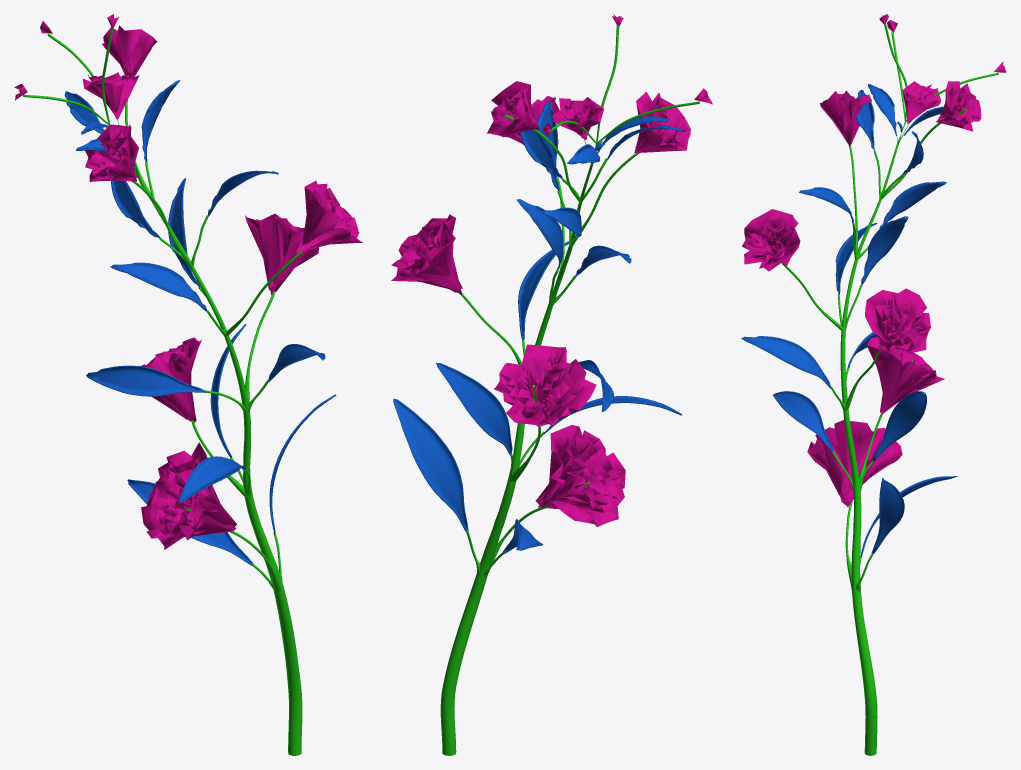
File: flowers.fbx
3 renders of one model, left to right at view 1: azimuth 30°, elevation 25°; view 2: azimuth 150°, elevation 25°; view 3: azimuth 270°, elevation 25°, orthographic. The views are drawn at different scales.
Visible parts, largest first — view 1: flowers, leaves, stalk; view 2: flowers, leaves, stalk; view 3: flowers, leaves, stalk.
Part boxes in pixels (x1,y1,x2,y2): flowers: [14, 14, 362, 549]; leaves: [64, 80, 336, 565]; stalk: [23, 27, 303, 755]; flowers: [391, 14, 712, 527]; leaves: [393, 101, 682, 553]; stalk: [440, 25, 700, 755]; flowers: [742, 14, 1006, 507]; leaves: [741, 84, 957, 556]; stalk: [782, 23, 998, 755].
Size of the model in its own units: 0.2578 by 0.5999 by 0.2167.
